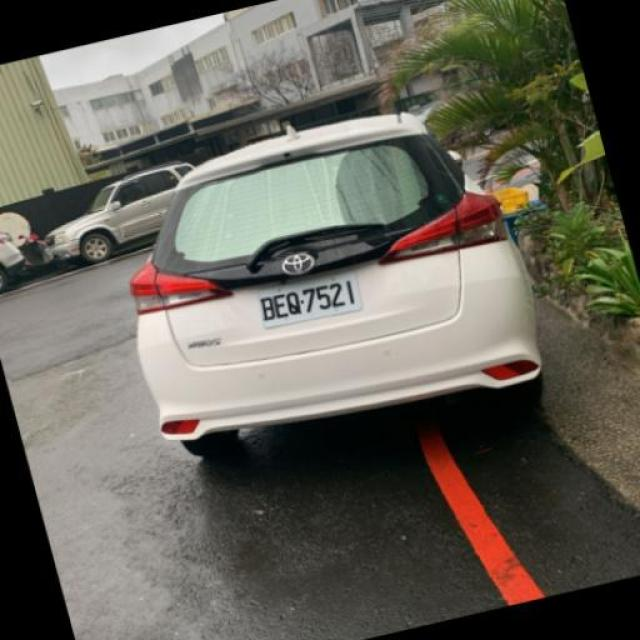illegalparking: (98, 83, 574, 518)
